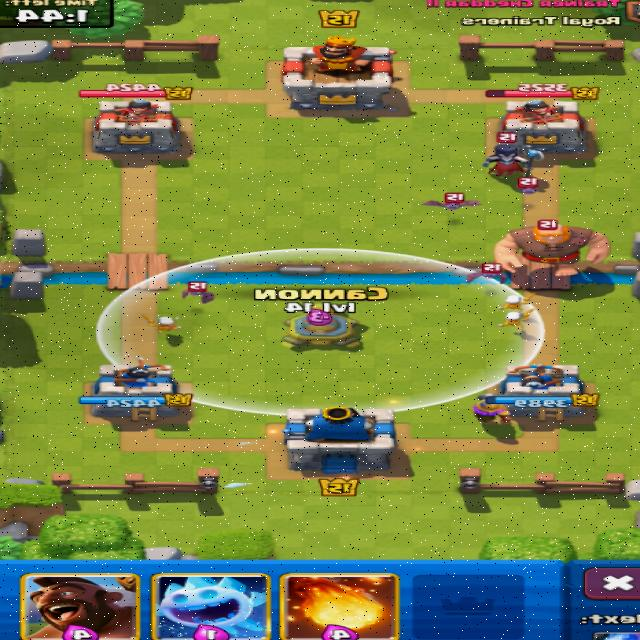Enemy-Bat: (424, 194, 481, 209), (183, 281, 214, 303), (468, 264, 505, 282), (519, 176, 537, 194)
Enemy-Giant: (496, 224, 608, 276)
Enemy-KingTower: (283, 37, 393, 109)
Enemy-NightWitch: (483, 133, 544, 176)
Enemy-PrincessTower: (95, 99, 184, 160), (500, 99, 586, 153)
Player-KingTower: (284, 407, 396, 473)
Player-Musketeer: (474, 395, 510, 423)
Player-PrincessTower: (81, 359, 192, 421), (479, 364, 599, 421)
Player-Skeleton: (500, 309, 532, 332), (143, 316, 181, 332), (500, 294, 534, 309)
